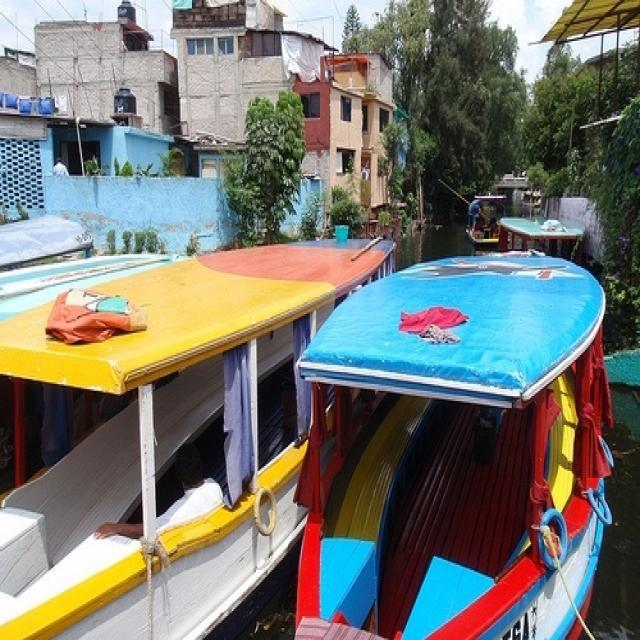boat: (0, 234, 401, 640), (290, 252, 610, 640)
